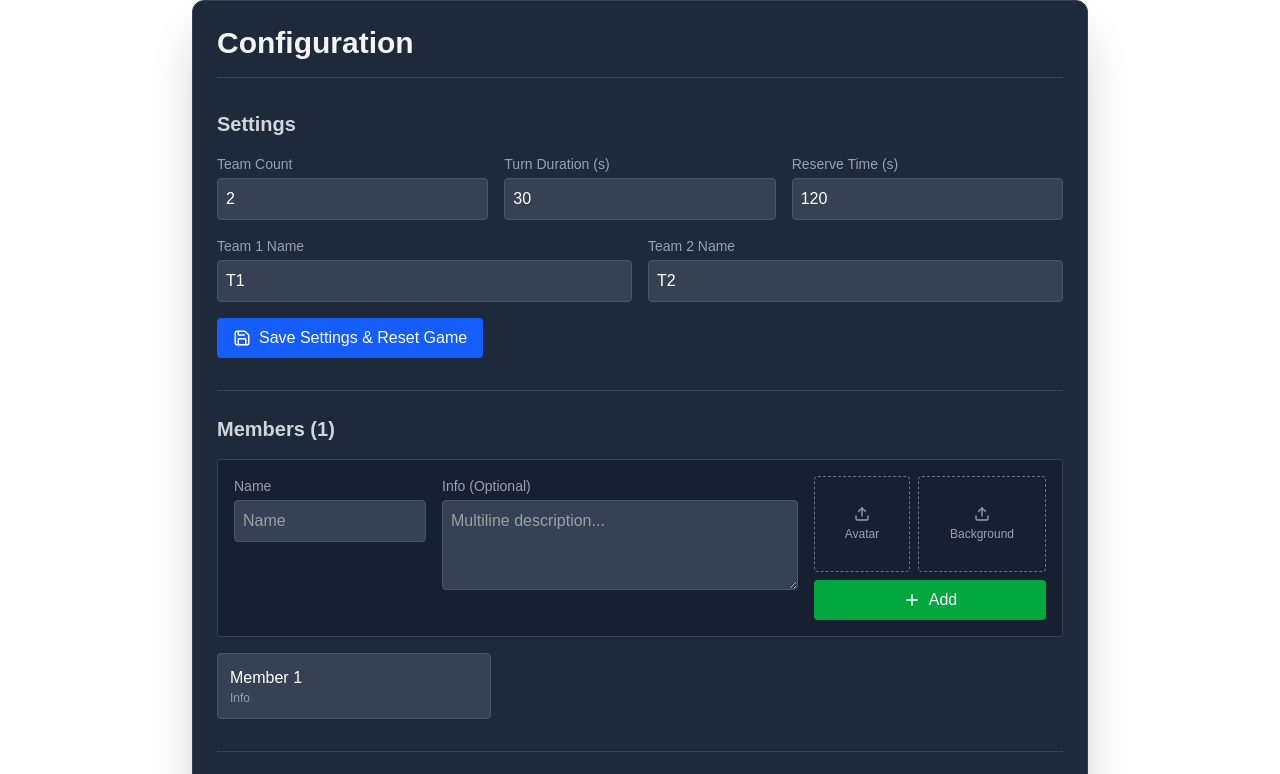
Test: Component: Configuration › should update team count and names array
Replace the text in the number field showing "2" below "Team Count" with "4" at x=353, y=199, box [217,178,488,220]
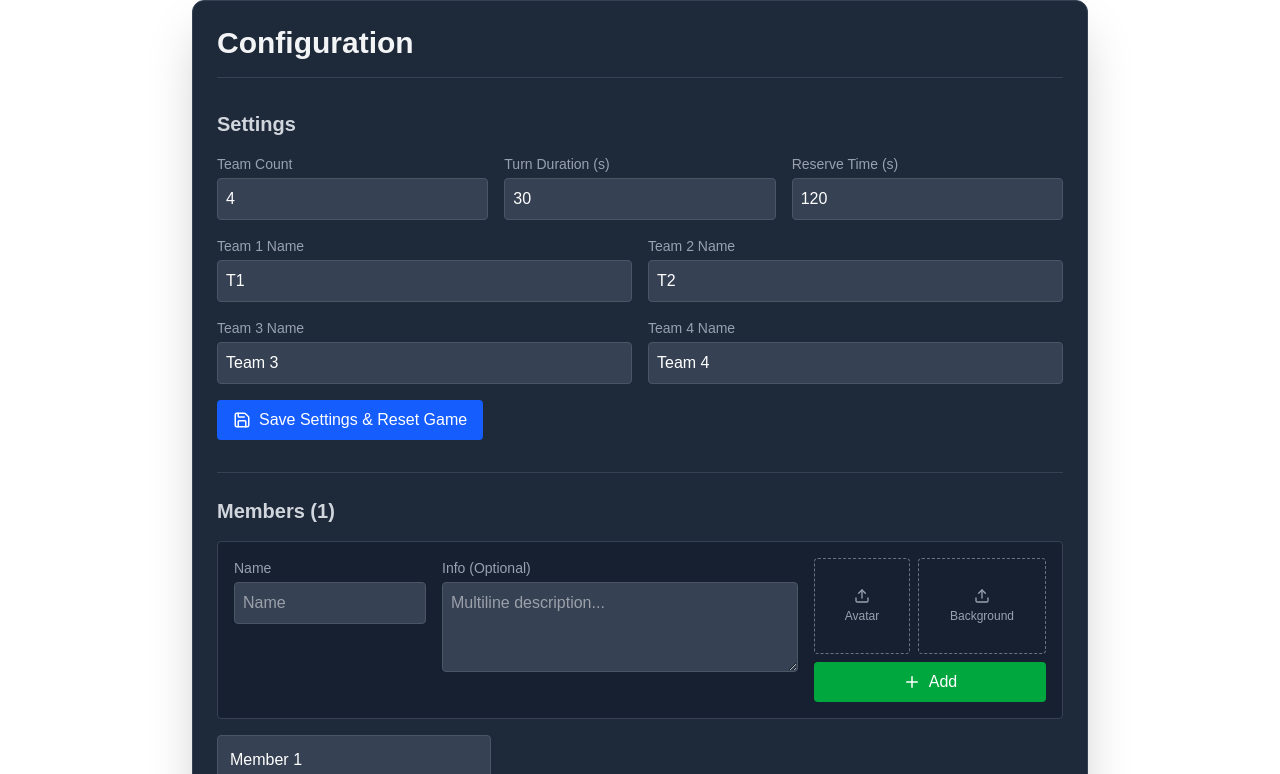
Expected: the text "Team 4 Name" is shown, [648,320,735,336]
